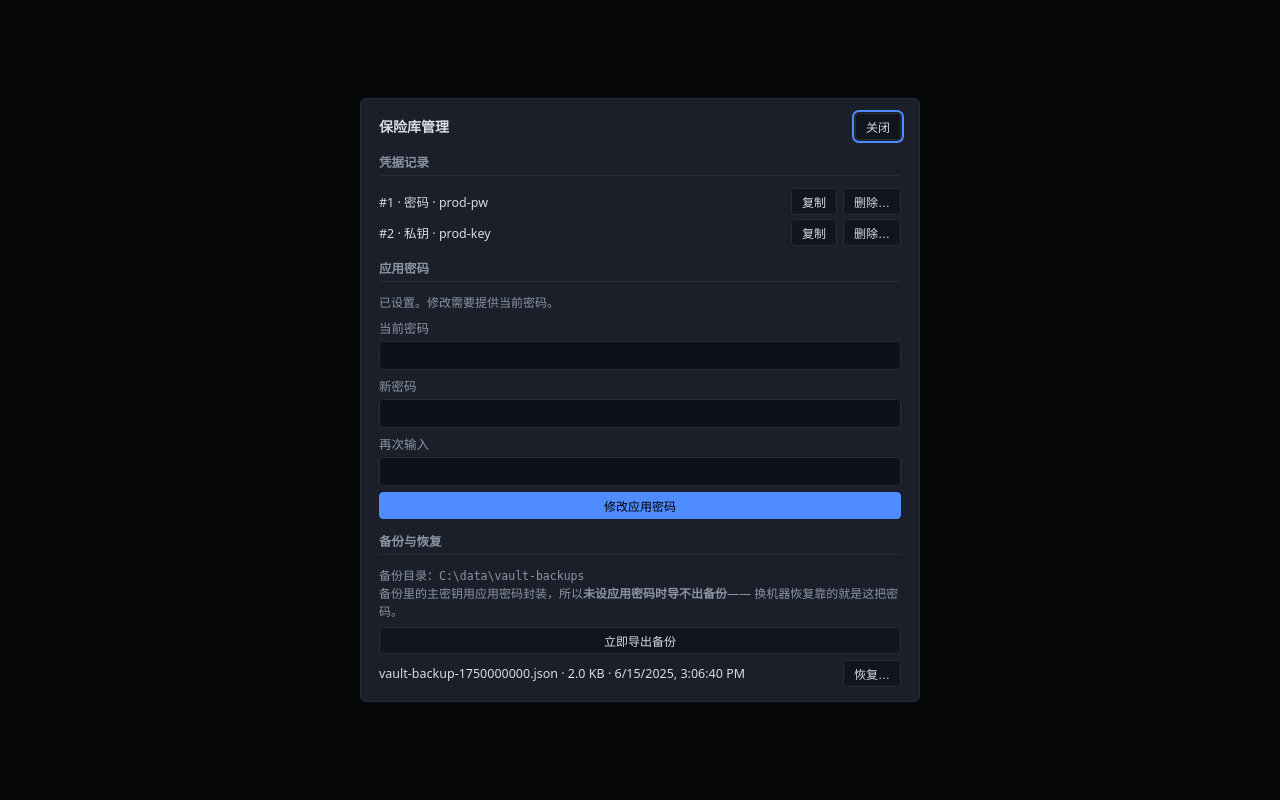
VaultManagerDialog › 删除失败时记录仍在列表里，且给出原因
Click the button "删除…" in the row of "#1 · 密码 · prod-pw" at (872,201), box [843, 188, 901, 215]
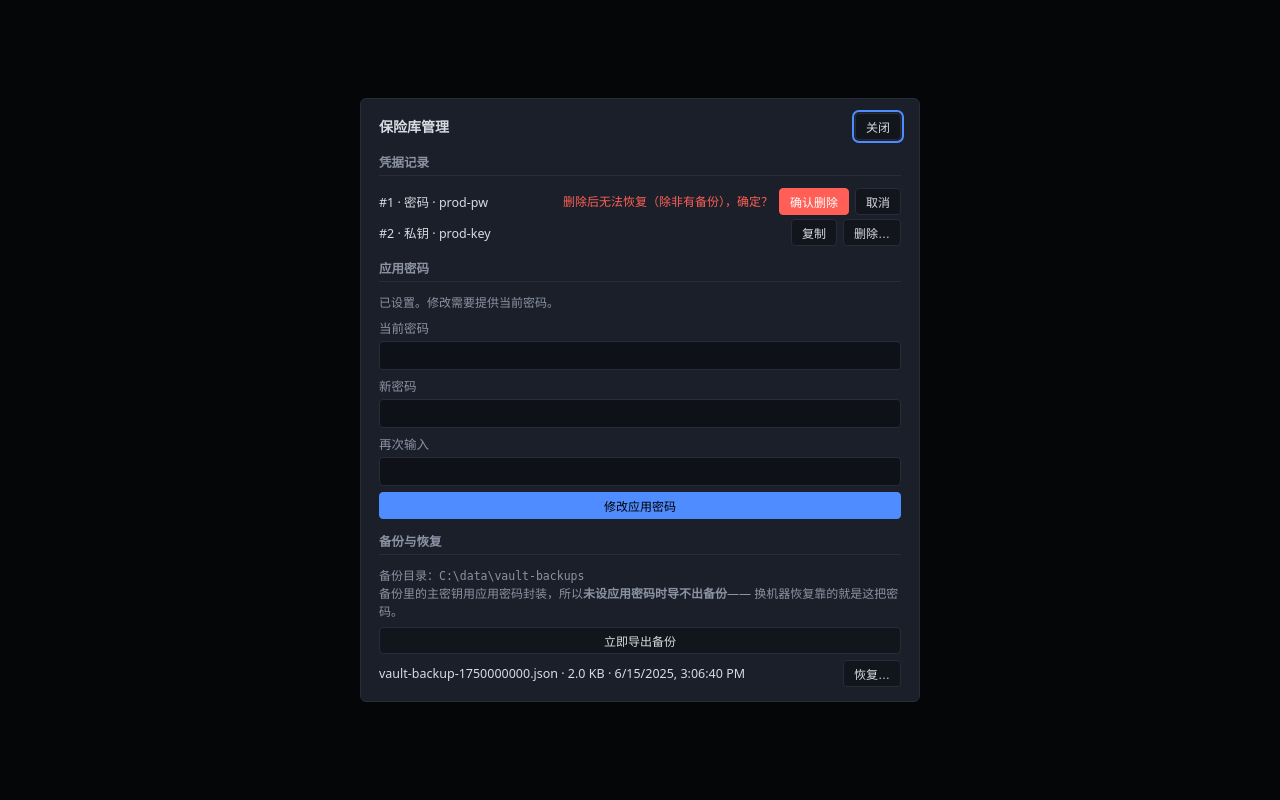
Click the button "确认删除" at (814,201), box [779, 188, 849, 215]
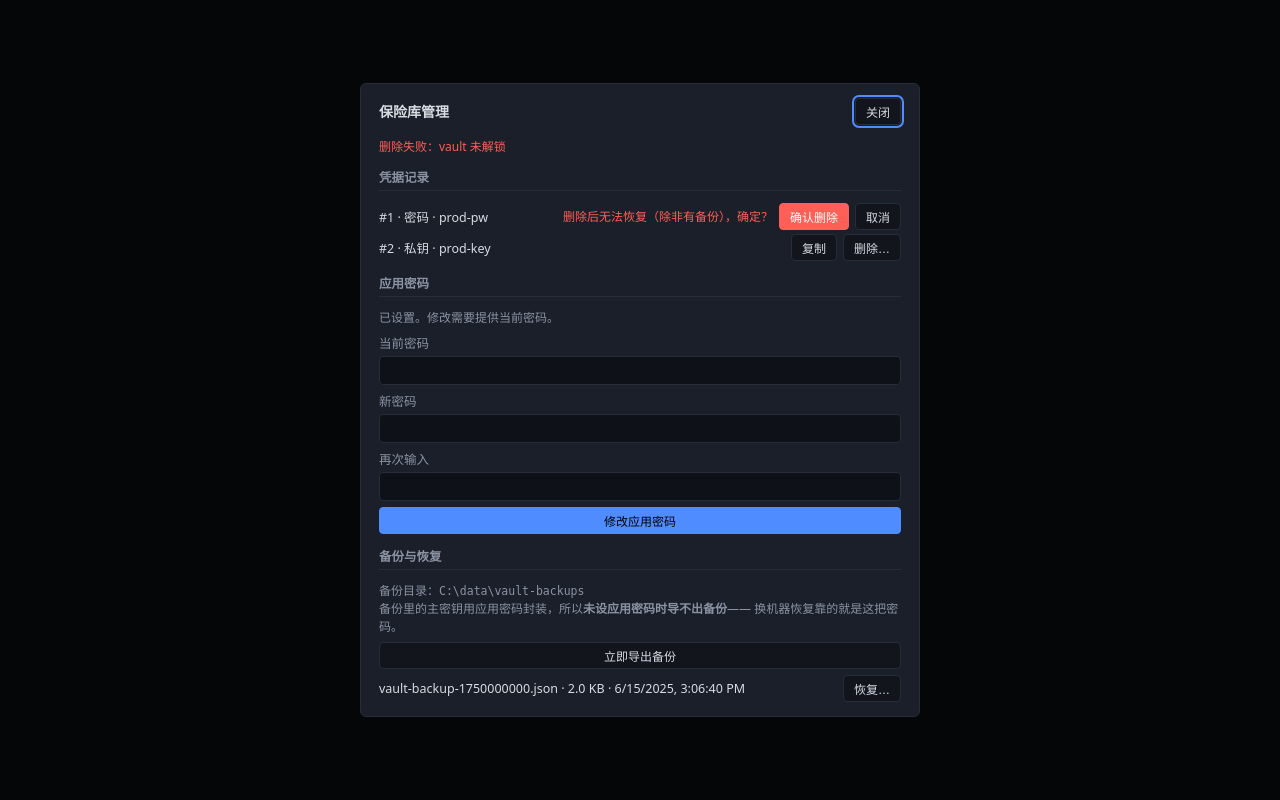
Expected: the message with test id "vm-err" shows "vault 未解锁", [379, 138, 506, 155]
